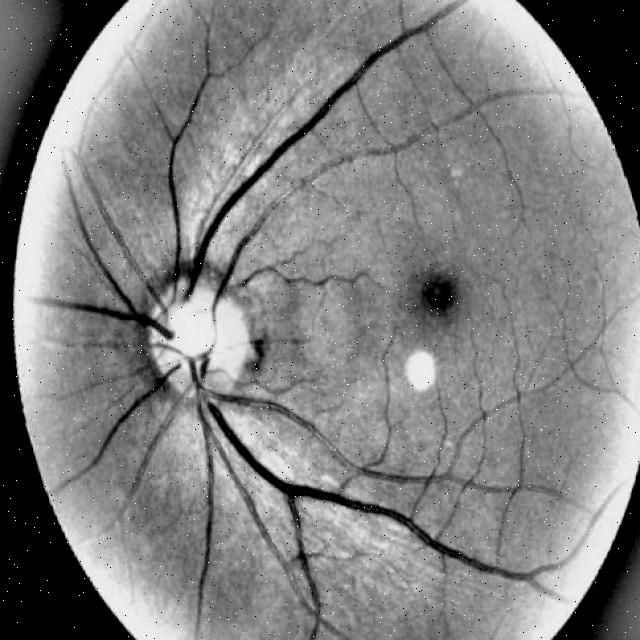Macula: (422, 274, 458, 315)
Nerves: (34, 89, 586, 640), (85, 0, 466, 319)
Optic Disk: (149, 284, 258, 394)
